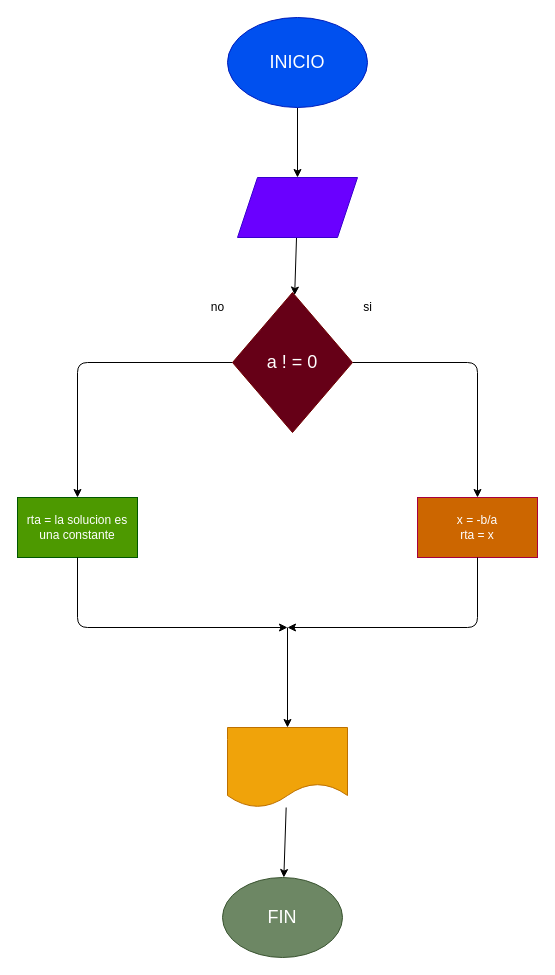
Image size: 555x975. Some labels were removed from this diagram. Here are the shapes that lost their labels. From the top down, the centre of each, then its label:
the point at 297,207: a b
the point at 287,767: rta
